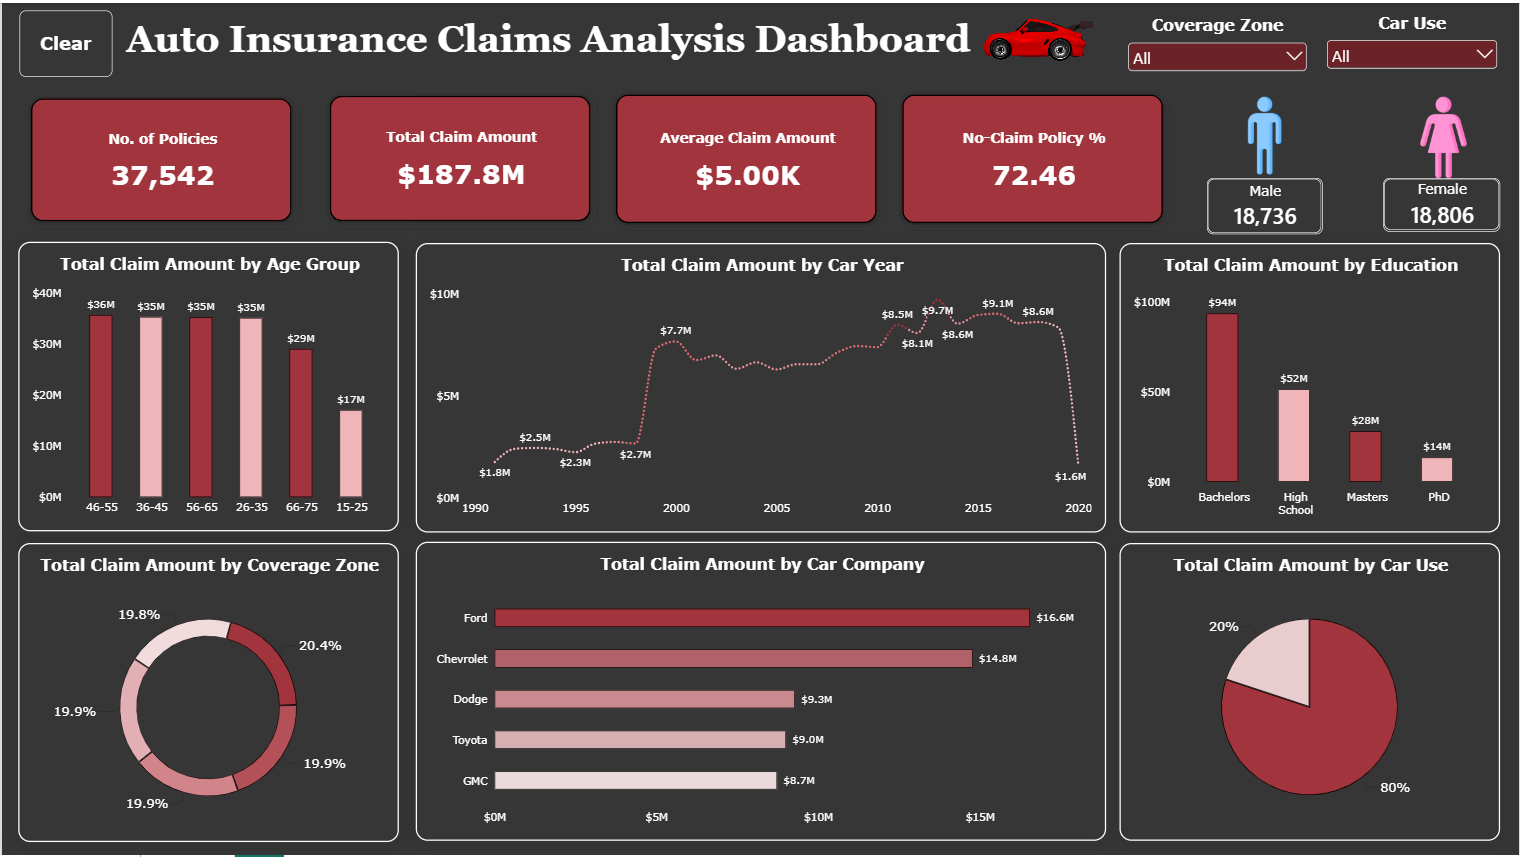

The dashboard page shown, as its layout file describes it:
{"tool":"powerbi","page":{"name":"Dashboard","canvas":[1920,1080],"ordinal":0},"visuals":[{"type":"textbox","box":[157.1,17.9,1076.8,62.5],"z":0},{"type":"cardVisual","fields":{"Data":["All Measures.Total Policies"]},"box":[20.9,104.7,362.8,188.4],"z":1000},{"type":"cardVisual","fields":{"Data":["Sum(insurance_data_car.Claim Amount)"]},"box":[398.3,101.2,362.8,191.9],"z":2000},{"type":"cardVisual","fields":{"Data":["Avg(insurance_data_car.Claim Amount)"]},"box":[760.5,99.4,362.8,195.3],"z":3000},{"type":"cardVisual","fields":{"Data":["All Measures.No-Claim Policy %"]},"box":[1123.3,99.4,362.8,195.3],"z":4000},{"type":"lineChart","title":"Total Claim Amount by Car Year","fields":{"Category":["insurance_data_car.Car Year"],"Y":["Sum(insurance_data_car.Claim Amount)"]},"box":[523.3,303.5,873.8,366.3],"z":5000},{"type":"clusteredColumnChart","title":"Total Claim Amount by Education","fields":{"Category":["insurance_data_car.Education"],"Y":["Sum(insurance_data_car.Claim Amount)"]},"box":[1414.5,303.5,481.4,366.3],"z":6000},{"type":"pieChart","title":"Total Claim Amount by Car Use","fields":{"Y":["Sum(insurance_data_car.Claim Amount)"],"Category":["insurance_data_car.Car Use"]},"box":[1414.5,683.7,481.4,376.7],"z":7000},{"type":"clusteredBarChart","title":"Total Claim Amount by Car Company","fields":{"Y":["Sum(insurance_data_car.Claim Amount)"],"Category":["insurance_data_car.Car Make"]},"box":[523.3,682,873.8,378.5],"z":8000},{"type":"clusteredColumnChart","title":"Total Claim Amount by Age Group","fields":{"Y":["Sum(insurance_data_car.Claim Amount)"],"Category":["insurance_data_car.Age Group"]},"box":[20.6,302.6,481.6,366.4],"z":9000},{"type":"donutChart","title":"Total Claim Amount by Coverage Zone","fields":{"Category":["insurance_data_car.Coverage Zone"],"Y":["Sum(insurance_data_car.Claim Amount)"]},"box":[20.9,683.7,481.4,378.5],"z":10000},{"type":"image","box":[1541.1,117.9,114.3,98.2],"z":11000},{"type":"image","box":[1766.1,117.9,114.3,103.6],"z":12000},{"type":"cardVisual","fields":{"Data":["All Measures.Male Count"]},"box":[1525,221.4,146.4,71.4],"z":13000},{"type":"cardVisual","fields":{"Data":["All Measures.Female Count"]},"box":[1748.2,221.4,148.2,67.9],"z":14000},{"type":"image","box":[1212.5,10.7,185.7,83.9],"z":15000},{"type":"slicer","title":"Car Use","fields":{"Values":["insurance_data_car.Car Use"]},"box":[1671.4,12.5,225,83.9],"z":16000},{"type":"slicer","title":"Coverage Zone","fields":{"Values":["insurance_data_car.Coverage Zone"]},"box":[1419.6,16.1,235.7,80.4],"z":17000},{"type":"actionButton","title":"Clear","box":[21.4,8.9,117.9,83.9],"z":18000}]}

Visuals, with their boxes in screenshot pixels (x1, y1, x2, y2), scaled from the page's 1920x1080 canvas onto the 1520x857 screenshot:
textbox: bbox=(124, 14, 977, 64)
cardVisual - All Measures.Total Policies: bbox=(17, 83, 304, 233)
cardVisual - Sum(insurance_data_car.Claim Amount): bbox=(315, 80, 603, 233)
cardVisual - Avg(insurance_data_car.Claim Amount): bbox=(602, 79, 889, 234)
cardVisual - All Measures.No-Claim Policy %: bbox=(889, 79, 1176, 234)
"Total Claim Amount by Car Year" lineChart: bbox=(414, 241, 1106, 531)
"Total Claim Amount by Education" clusteredColumnChart: bbox=(1120, 241, 1501, 531)
"Total Claim Amount by Car Use" pieChart: bbox=(1120, 543, 1501, 841)
"Total Claim Amount by Car Company" clusteredBarChart: bbox=(414, 541, 1106, 842)
"Total Claim Amount by Age Group" clusteredColumnChart: bbox=(16, 240, 398, 531)
"Total Claim Amount by Coverage Zone" donutChart: bbox=(17, 543, 398, 843)
image: bbox=(1220, 94, 1311, 171)
image: bbox=(1398, 94, 1489, 176)
cardVisual - All Measures.Male Count: bbox=(1207, 176, 1323, 232)
cardVisual - All Measures.Female Count: bbox=(1384, 176, 1501, 230)
image: bbox=(960, 8, 1107, 75)
"Car Use" slicer: bbox=(1323, 10, 1501, 76)
"Coverage Zone" slicer: bbox=(1124, 13, 1310, 77)
"Clear" actionButton: bbox=(17, 7, 110, 74)
